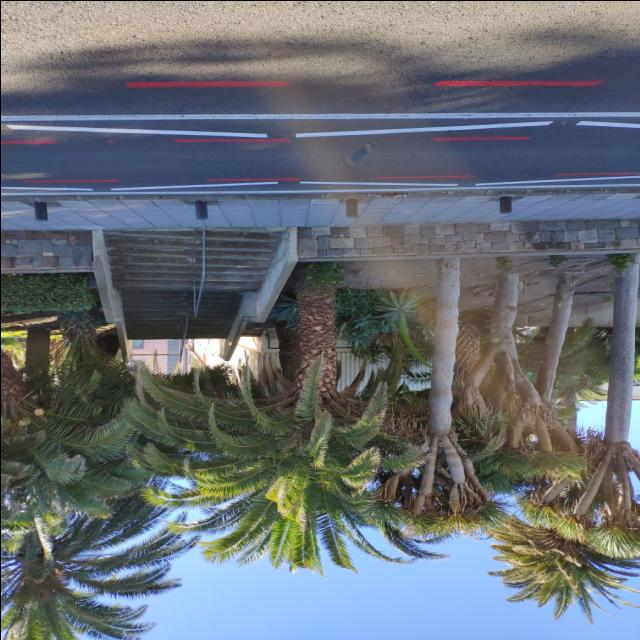Palm-Trees: (170, 270, 452, 572)
